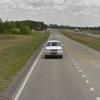Bus: (40, 36, 65, 59)
